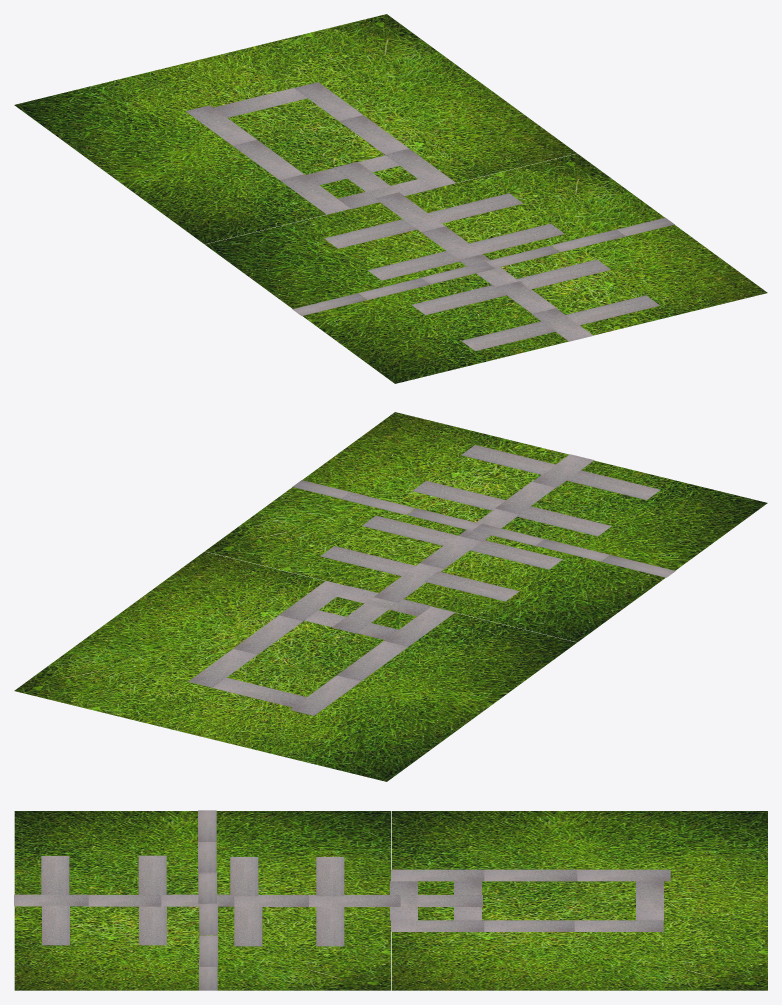
File: pisocalle.obj
3 views of the same model, one above another, from view 1: azimuth 30°, elevation 25°; view 2: azimuth 150°, elevation 25°; view 3: azimuth 270°, elevation 25° (orthographic).
Visible parts, largest first — view 1: Plane_Plane.001, Plane_Plane.002, Plane.016_Plane.017, Plane.012_Plane.013, Plane.007_Plane.012, Plane.017_Plane.018, Plane.015_Plane.016, Plane.021, Plane.018_Plane.019, Plane.017, Plane.014, Plane.016 (+18 smaller); view 2: Plane_Plane.001, Plane_Plane.002, Plane.014_Plane.015, Plane.015_Plane.016, Plane.016_Plane.017, Plane.012_Plane.013, Plane.018_Plane.019, Plane.007_Plane.012, Plane.021, Plane.016, Plane.017_Plane.018, Plane.017 (+19 smaller); view 3: Plane_Plane.001, Plane_Plane.002, Plane.017, Plane.014, Plane.016, Plane.016_Plane.017, Plane.015_Plane.016, Plane.012_Plane.013, Plane.013_Plane.014, Plane.014_Plane.015, Plane.018_Plane.019, Plane.007_Plane.012 (+19 smaller).
Boxes of the visible parts, x1,y1,x2,y2 form: Plane_Plane.001: (14, 14, 576, 244); Plane_Plane.002: (205, 153, 767, 383); Plane.016_Plane.017: (469, 223, 564, 253); Plane.012_Plane.013: (411, 285, 506, 314); Plane.007_Plane.012: (461, 321, 556, 350); Plane.017_Plane.018: (516, 259, 610, 289); Plane.015_Plane.016: (428, 193, 522, 223); Plane.021: (213, 88, 307, 117); Plane.018_Plane.019: (566, 295, 659, 325); Plane.017: (186, 105, 256, 145); Plane.014: (280, 174, 350, 214); Plane.016: (233, 140, 303, 179); Plane_Plane.001: (14, 551, 576, 781); Plane_Plane.002: (205, 412, 767, 642); Plane.014_Plane.015: (424, 571, 519, 601); Plane.015_Plane.016: (320, 546, 415, 576); Plane.016_Plane.017: (362, 515, 457, 545); Plane.012_Plane.013: (516, 506, 611, 536); Plane.018_Plane.019: (461, 445, 556, 474); Plane.007_Plane.012: (566, 470, 660, 499); Plane.021: (212, 677, 306, 707); Plane.016: (337, 641, 407, 681); Plane.017_Plane.018: (412, 480, 505, 510); Plane.017: (290, 675, 360, 715); Plane_Plane.001: (391, 811, 767, 990); Plane_Plane.002: (14, 811, 390, 990); Plane.017: (577, 869, 670, 881); Plane.014: (391, 869, 484, 881); Plane.016: (484, 869, 577, 881); Plane.016_Plane.017: (234, 906, 262, 946); Plane.015_Plane.016: (316, 906, 344, 946); Plane.012_Plane.013: (138, 855, 166, 894); Plane.013_Plane.014: (230, 857, 258, 896); Plane.014_Plane.015: (316, 857, 344, 896); Plane.018_Plane.019: (42, 905, 69, 945); Plane.007_Plane.012: (41, 856, 69, 894).
Bounding box in the file's own units: 229 × 0.0754 × 404.
Materials: 2 (2 with a texture image).
